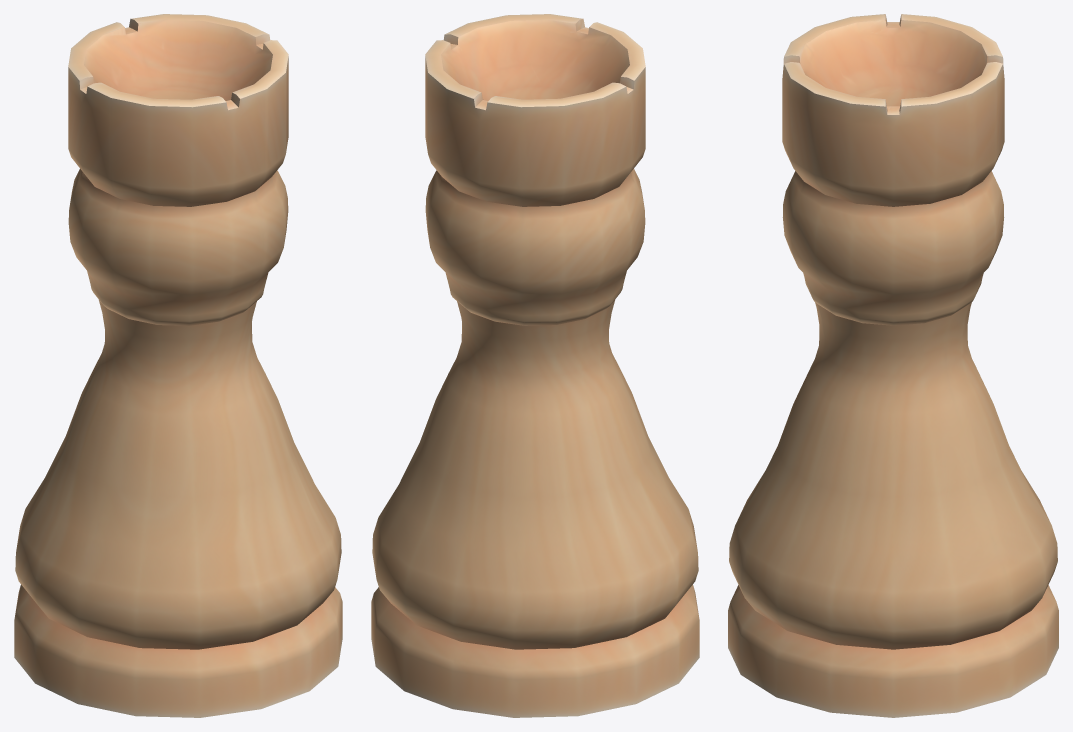
The model's file is Ладья.fbx.
The picture shows the model from 3 angles, left to right: view 1: azimuth 30°, elevation 25°; view 2: azimuth 150°, elevation 25°; view 3: azimuth 270°, elevation 25°; orthographic projection.
Visible parts, largest first — view 1: Ладья белый; view 2: Ладья белый; view 3: Ладья белый.
Boxes of the visible parts, bbox=[...] form: Ладья белый: bbox=[14, 14, 342, 717]; Ладья белый: bbox=[371, 14, 699, 717]; Ладья белый: bbox=[728, 14, 1058, 717].
Size of the model in its own units: 194 by 382 by 194.
1 material, 1 textured.
